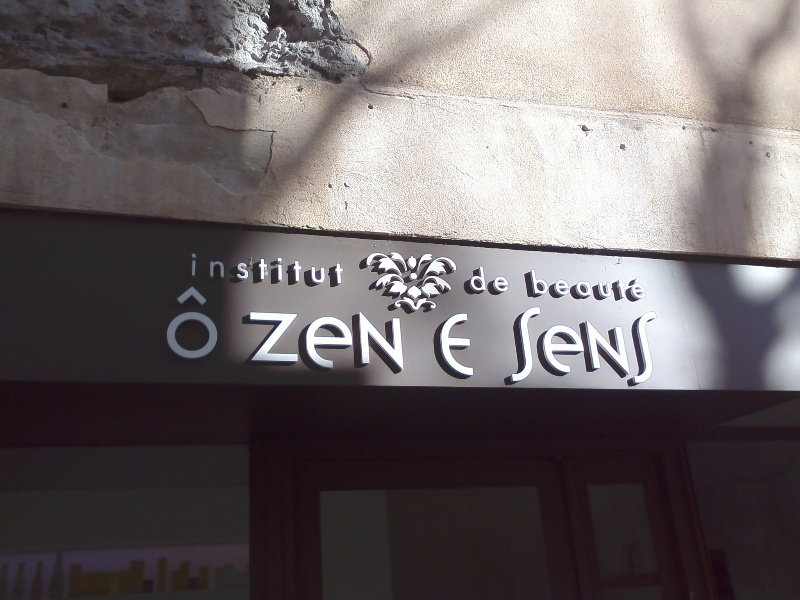text: (513, 305, 528, 388), (529, 305, 544, 388), (545, 305, 560, 388), (561, 305, 576, 388), (577, 305, 592, 388), (593, 305, 608, 388), (609, 305, 624, 388), (625, 305, 640, 388), (641, 305, 656, 388), (177, 284, 192, 362), (193, 284, 208, 362), (257, 304, 272, 373), (273, 304, 288, 373), (289, 304, 304, 373), (305, 304, 320, 373), (321, 304, 336, 373), (337, 304, 352, 373), (353, 304, 368, 373), (369, 304, 384, 373), (385, 304, 400, 373), (449, 313, 464, 380), (465, 313, 478, 380), (209, 284, 220, 362), (437, 313, 448, 380), (167, 284, 176, 362), (504, 305, 512, 388), (247, 304, 256, 373), (193, 253, 208, 287), (209, 253, 224, 287), (225, 253, 240, 287), (241, 253, 256, 287), (257, 253, 272, 287), (273, 253, 288, 287), (289, 253, 304, 287), (305, 253, 320, 287), (321, 253, 336, 287), (657, 305, 663, 388), (465, 263, 480, 296), (481, 263, 496, 296), (497, 263, 512, 296), (529, 269, 544, 302), (545, 269, 560, 302), (561, 269, 576, 302), (577, 269, 592, 302), (593, 269, 608, 302), (609, 269, 624, 302), (625, 269, 640, 302), (401, 304, 406, 373), (337, 253, 347, 287), (641, 269, 647, 302), (191, 253, 192, 287), (527, 269, 528, 302)
